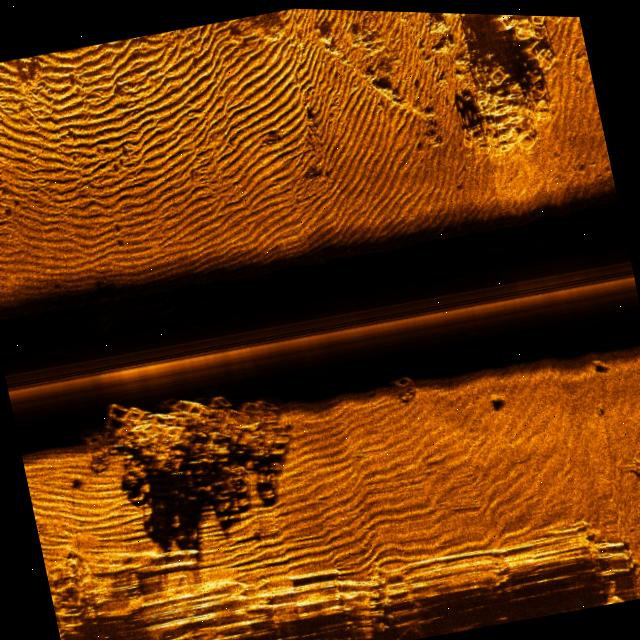artificial reef: (65, 353, 314, 530), (427, 10, 605, 166), (378, 353, 422, 402)
